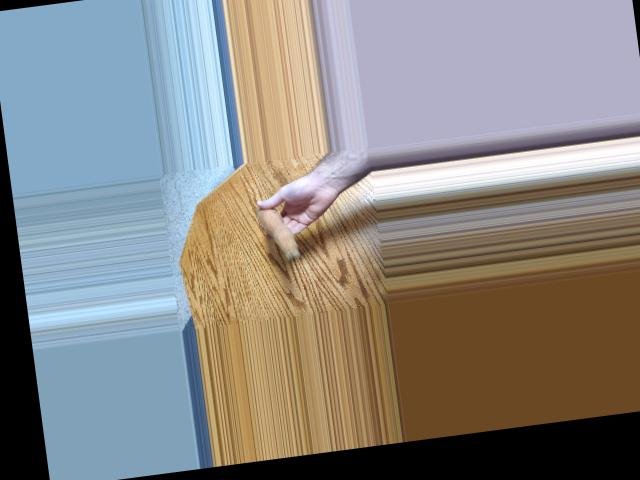sweet_potato: (255, 198, 303, 263)
